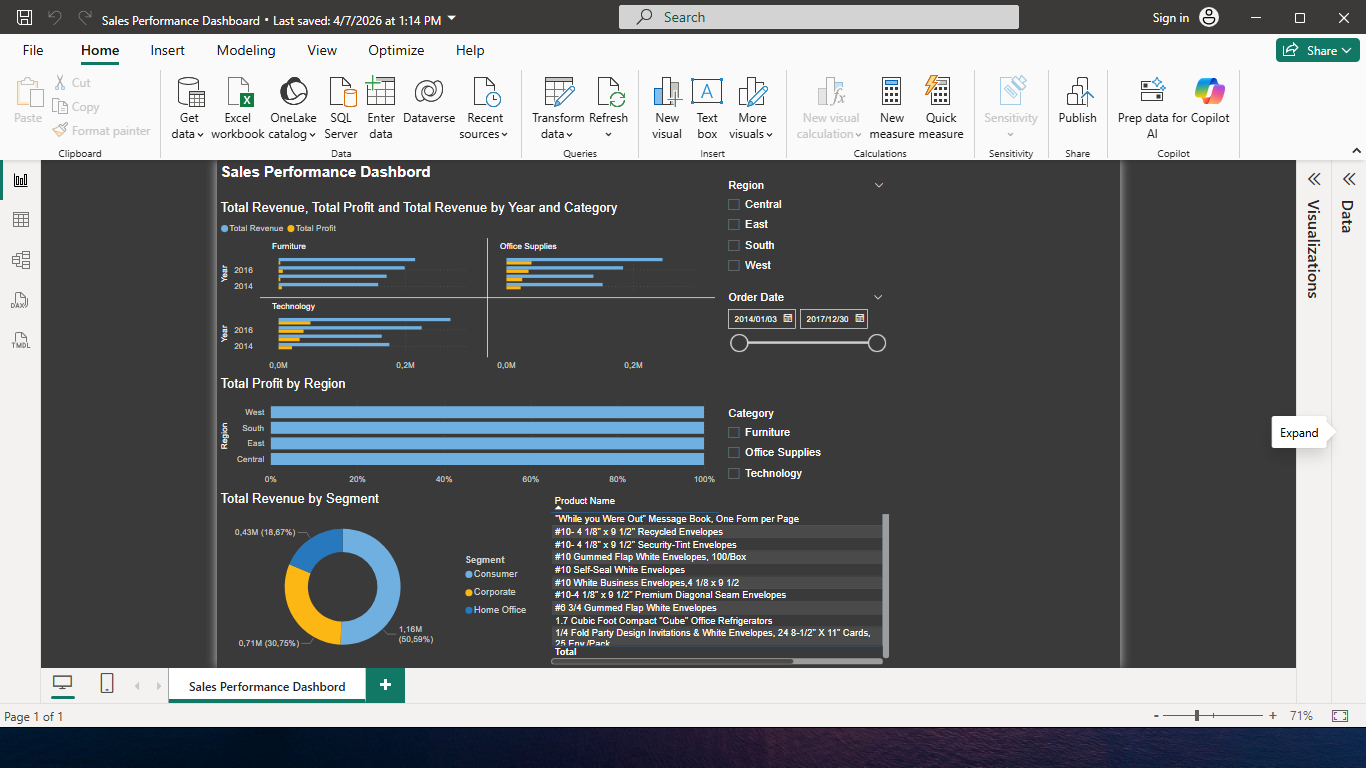

Layout of this report page (visuals, bound fields, positions):
{"tool":"powerbi","page":{"name":"Sales Performance Dashbord","canvas":[1280,720],"ordinal":0},"visuals":[{"type":"clusteredBarChart","fields":{"Category":["Sample - Superstore.Order Date.Variation.Date Hierarchy.Year","Sample - Superstore.Order Date.Variation.Date Hierarchy.Quarter"],"Y":["Sample - Superstore.Total Revenue","Sample - Superstore.Total Profit","Sample - Superstore.Total Revenue"],"Rows":["Sample - Superstore.Category"]},"box":[0,56.2,711.4,250.6],"z":0},{"type":"hundredPercentStackedBarChart","fields":{"Category":["Sample - Superstore.Region"],"Y":["Sample - Superstore.Total Profit"]},"box":[0,306.7,711.4,162.7],"z":1000},{"type":"tableEx","fields":{"Values":["Sample - Superstore.Product Name","Sample - Superstore.Total Profit","Sample - Superstore.Total Revenue"]},"box":[468,469.4,489.6,250.6],"z":2000},{"type":"donutChart","fields":{"Y":["Sample - Superstore.Total Revenue"],"Category":["Sample - Superstore.Segment"]},"box":[0,469.4,452.2,250.6],"z":3000},{"type":"slicer","fields":{"Values":["Sample - Superstore.Region"]},"box":[711.4,23,246.2,171.4],"z":4000},{"type":"slicer","fields":{"Values":["Sample - Superstore.Category"]},"box":[711.4,345.6,244.8,155.5],"z":5000},{"type":"slicer","fields":{"Values":["Sample - Superstore.Order Date"]},"box":[711.4,181.4,244.8,151.2],"z":6000},{"type":"textbox","box":[0,0,567.4,56.2],"z":7000}]}

Visuals, with their boxes on the page's 1280x720 design canvas (x1, y1, x2, y2). These are canvas units, not pixel positions in the 1366x768 screenshot, which may show the page scaled, cropped or inside an application window:
clusteredBarChart - Sample - Superstore.Order Date.Variation.Date Hierarchy.Year x Sample - Superstore.Order Date.Variation.Date Hierarchy.Quarter: {"left": 0, "top": 56, "right": 711, "bottom": 307}
hundredPercentStackedBarChart - Sample - Superstore.Region x Sample - Superstore.Total Profit: {"left": 0, "top": 307, "right": 711, "bottom": 469}
tableEx - Sample - Superstore.Product Name x Sample - Superstore.Total Profit: {"left": 468, "top": 469, "right": 958, "bottom": 720}
donutChart - Sample - Superstore.Total Revenue x Sample - Superstore.Segment: {"left": 0, "top": 469, "right": 452, "bottom": 720}
slicer - Sample - Superstore.Region: {"left": 711, "top": 23, "right": 958, "bottom": 194}
slicer - Sample - Superstore.Category: {"left": 711, "top": 346, "right": 956, "bottom": 501}
slicer - Sample - Superstore.Order Date: {"left": 711, "top": 181, "right": 956, "bottom": 333}
textbox: {"left": 0, "top": 0, "right": 567, "bottom": 56}
